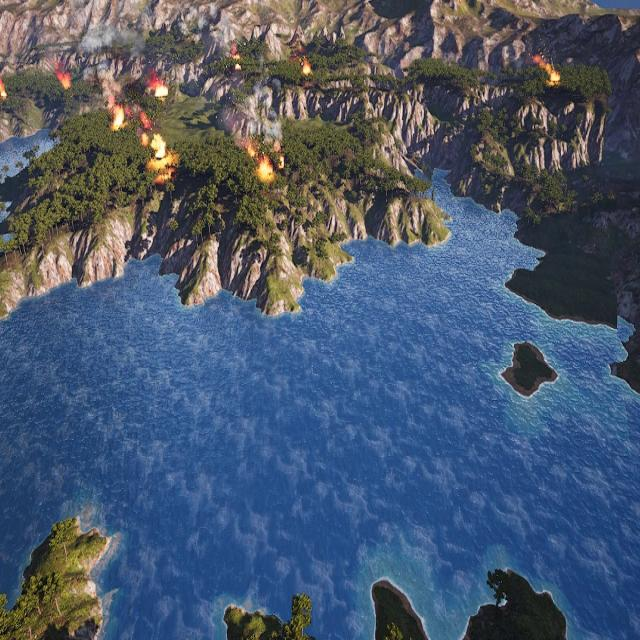fire: (541, 57, 559, 85), (149, 134, 167, 161), (260, 158, 274, 180), (112, 106, 125, 128), (58, 71, 72, 89), (155, 84, 169, 98), (232, 46, 241, 66), (550, 69, 561, 84), (0, 80, 7, 100), (246, 146, 256, 158), (278, 156, 285, 170), (304, 63, 312, 75), (142, 134, 150, 146), (236, 61, 242, 70)
smoke: (77, 21, 142, 106), (252, 77, 286, 146), (197, 0, 237, 55), (264, 116, 284, 151), (139, 110, 152, 144)
